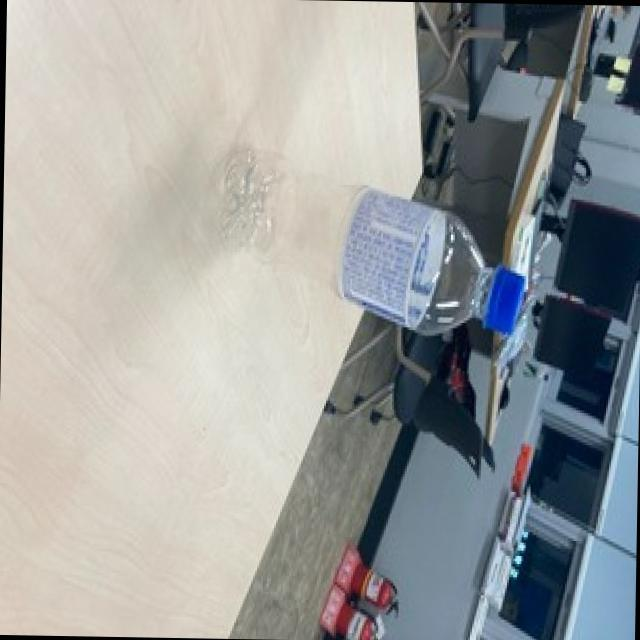good: (198, 144, 535, 342)
